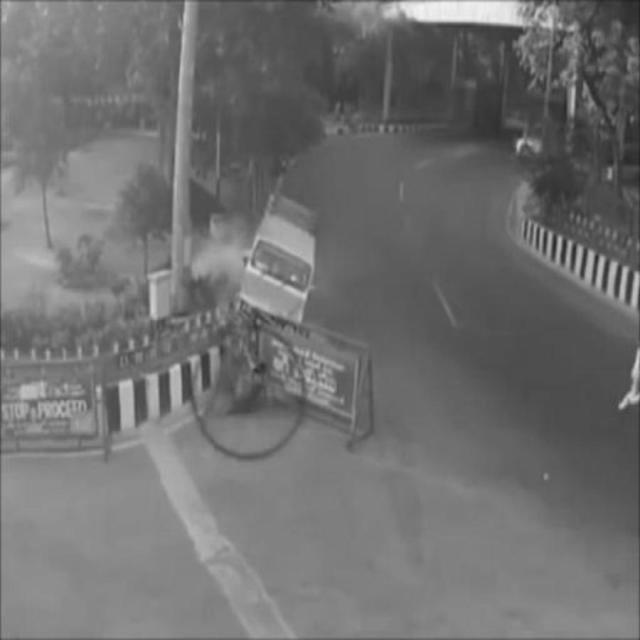accident: (229, 194, 320, 418)
